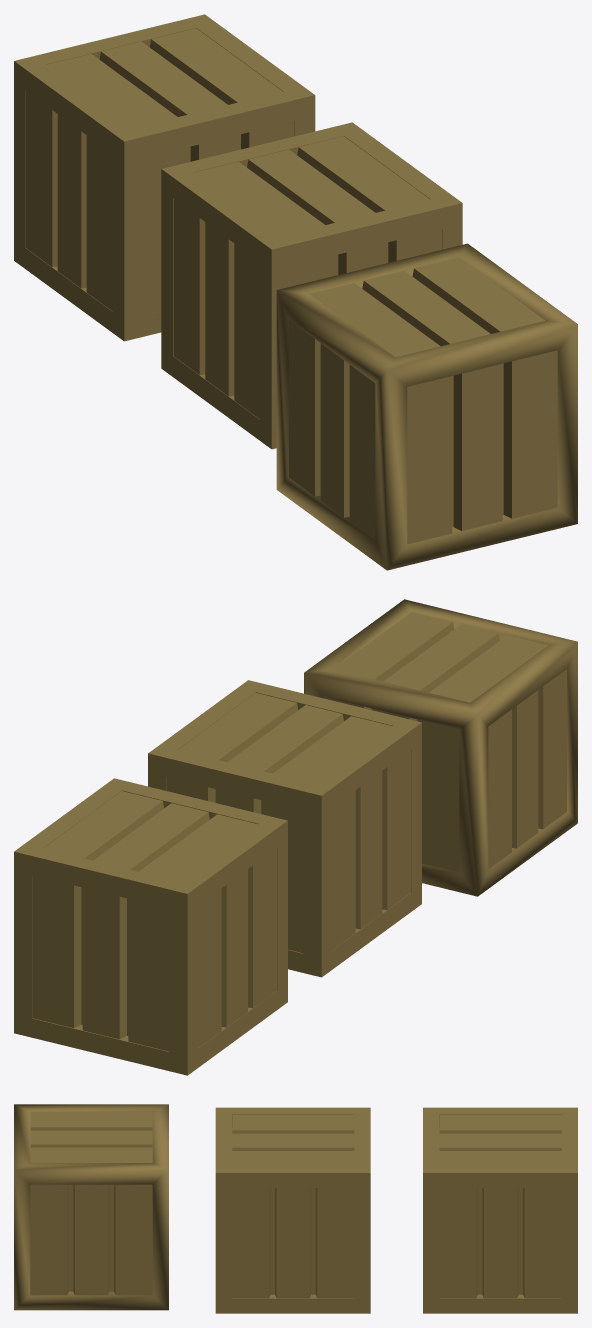
The model's file is cratebox.fbx.
3 renders of one model, top to bottom at view 1: azimuth 30°, elevation 25°; view 2: azimuth 150°, elevation 25°; view 3: azimuth 270°, elevation 25°, orthographic. The views are drawn at different scales.
Parts seen in each view (by area): view 1: planks.002, Cube.002, planks.001, planks, Cube.001, Cube; view 2: planks.001, planks.002, Cube.001, planks, Cube.002, Cube; view 3: planks.002, planks, planks.001, Cube, Cube.002, Cube.001.
Boxes of the visible parts, <box> form: planks.002: <box>289,257,557,544</box>; Cube.002: <box>276,243,577,570</box>; planks.001: <box>26,28,294,315</box>; planks: <box>173,136,442,418</box>; Cube.001: <box>14,14,315,341</box>; Cube: <box>161,122,462,449</box>; planks.001: <box>32,791,276,1051</box>; planks.002: <box>322,612,566,872</box>; Cube.001: <box>14,778,287,1075</box>; planks: <box>166,693,410,953</box>; Cube.002: <box>304,599,577,896</box>; Cube: <box>148,680,421,977</box>; planks.002: <box>30,1111,152,1295</box>; planks: <box>232,1114,354,1298</box>; planks.001: <box>439,1114,561,1298</box>; Cube: <box>215,1107,370,1313</box>; Cube.002: <box>14,1104,168,1310</box>; Cube.001: <box>423,1107,577,1313</box>.
Size of the model in its own units: 229 by 209 by 728.
